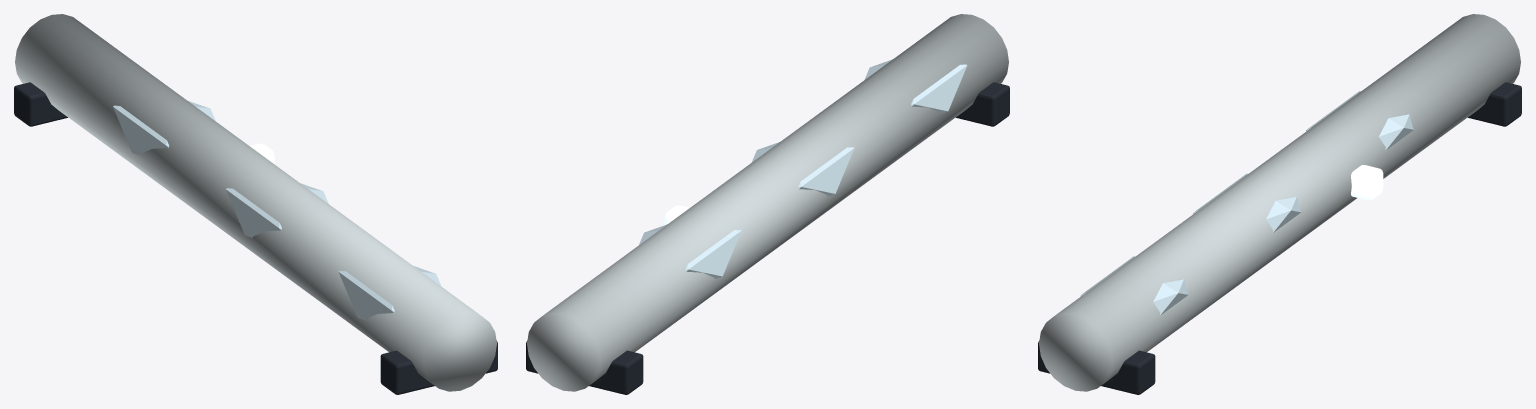
File: Conduit6.fbx
3 renders of one model, left to right at view 1: azimuth 30°, elevation 25°; view 2: azimuth 150°, elevation 25°; view 3: azimuth 330°, elevation 25°, orthographic.
Visible parts, largest first — view 1: PipeWhite_Pipe0.001, Metal_Saddle0, Metal_Saddle1, Ice_Frost0, Ice_Frost1.001, Ice_Frost2.001; view 2: PipeWhite_Pipe0.001, Metal_Saddle1, Metal_Saddle0, Ice_Frost2.001, Ice_Frost0, Ice_Frost1.001; view 3: PipeWhite_Pipe0.001, Metal_Saddle0, Metal_Saddle1, IceGlow_Valve0, Ice_Frost1.001, Ice_Frost0, Ice_Frost2.001.
Boxes of the visible parts, x1=… form: PipeWhite_Pipe0.001: x1=15, y1=14, x2=496, y2=391; Metal_Saddle0: x1=380, y1=341, x2=497, y2=394; Metal_Saddle1: x1=14, y1=82, x2=67, y2=126; Ice_Frost0: x1=338, y1=265, x2=441, y2=320; Ice_Frost1.001: x1=226, y1=183, x2=328, y2=237; Ice_Frost2.001: x1=113, y1=101, x2=215, y2=155; PipeWhite_Pipe0.001: x1=527, y1=14, x2=1008, y2=391; Metal_Saddle1: x1=526, y1=341, x2=643, y2=394; Metal_Saddle0: x1=956, y1=82, x2=1009, y2=126; Ice_Frost2.001: x1=639, y1=224, x2=741, y2=278; Ice_Frost0: x1=864, y1=59, x2=967, y2=113; Ice_Frost1.001: x1=751, y1=142, x2=854, y2=196; PipeWhite_Pipe0.001: x1=1039, y1=14, x2=1520, y2=391; Metal_Saddle0: x1=1038, y1=341, x2=1155, y2=394; Metal_Saddle1: x1=1468, y1=82, x2=1521, y2=126; IceGlow_Valve0: x1=1351, y1=165, x2=1383, y2=200; Ice_Frost1.001: x1=1193, y1=173, x2=1301, y2=232; Ice_Frost0: x1=1080, y1=256, x2=1188, y2=315; Ice_Frost2.001: x1=1306, y1=91, x2=1413, y2=150.
Size of the model in its own units: 0.44 by 2.9 by 0.31.
